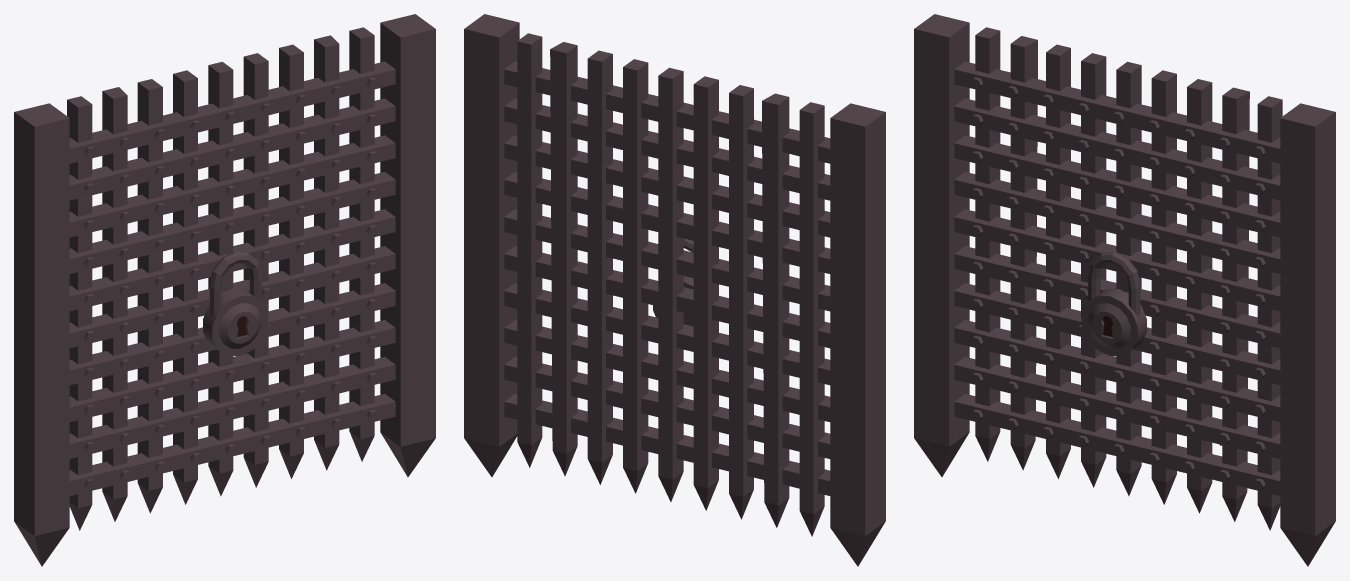
Rendered from lock.glb.
3 views of the same model, side by side, from view 1: azimuth 30°, elevation 25°; view 2: azimuth 150°, elevation 25°; view 3: azimuth 330°, elevation 25° (orthographic).
Visible parts, largest first — view 1: Cube.001, Cylinder; view 2: Cube.001; view 3: Cube.001, Cylinder.
Boxes of the visible parts, box(x1,y1,x2,y2) form: Cube.001: box(14, 14, 435, 566); Cylinder: box(203, 252, 268, 355); Cube.001: box(464, 14, 885, 566); Cube.001: box(914, 14, 1335, 566); Cylinder: box(1081, 252, 1146, 355).
Bounding box in the file's own units: 22.74 × 24.48 × 2.76.
2 materials, 2 textured.
